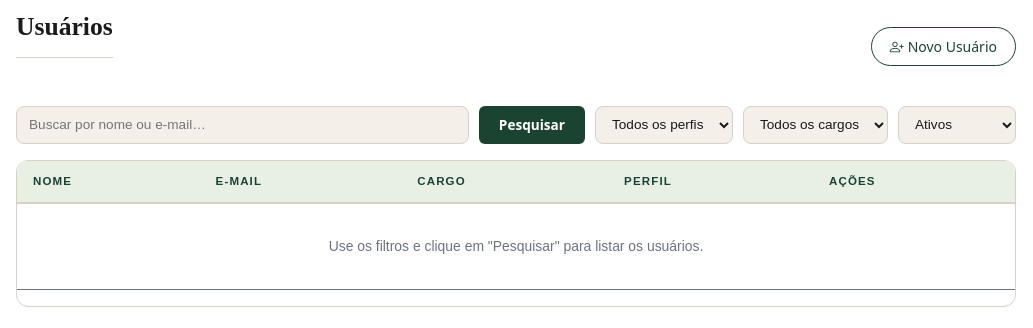
Test case: UserList — filtros (rascunho → aplica) › status "Bloqueados" filtra em memória, sem refetch
The width and height of the screenshot is (1033, 328).
Select "Bloqueados" in the 3rd dropdown at (957, 125), box [898,106,1016,144]
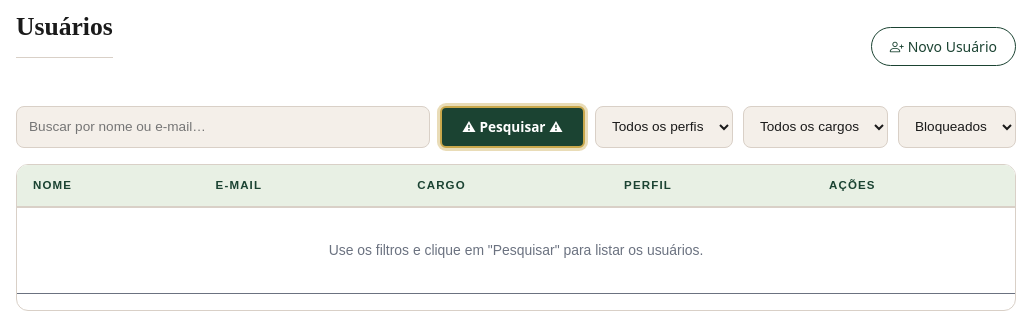
Click the button with class "user-list-btn-filtrar" at (512, 127), box [440,106,585,148]
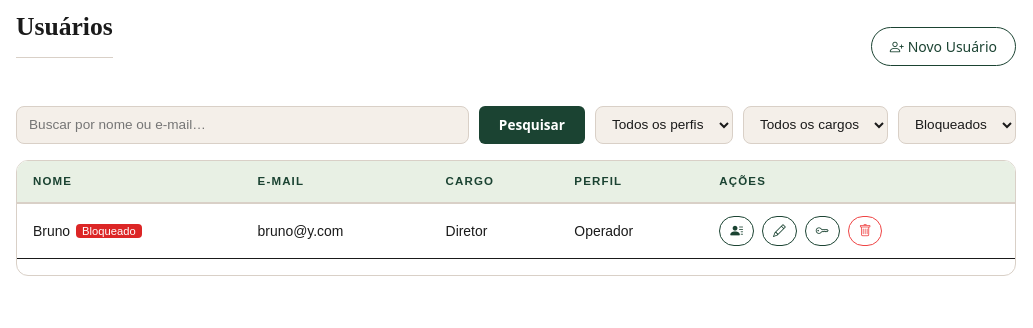
expect the text "bruno@y.com" is shown: met, box [242,203,430,258]
